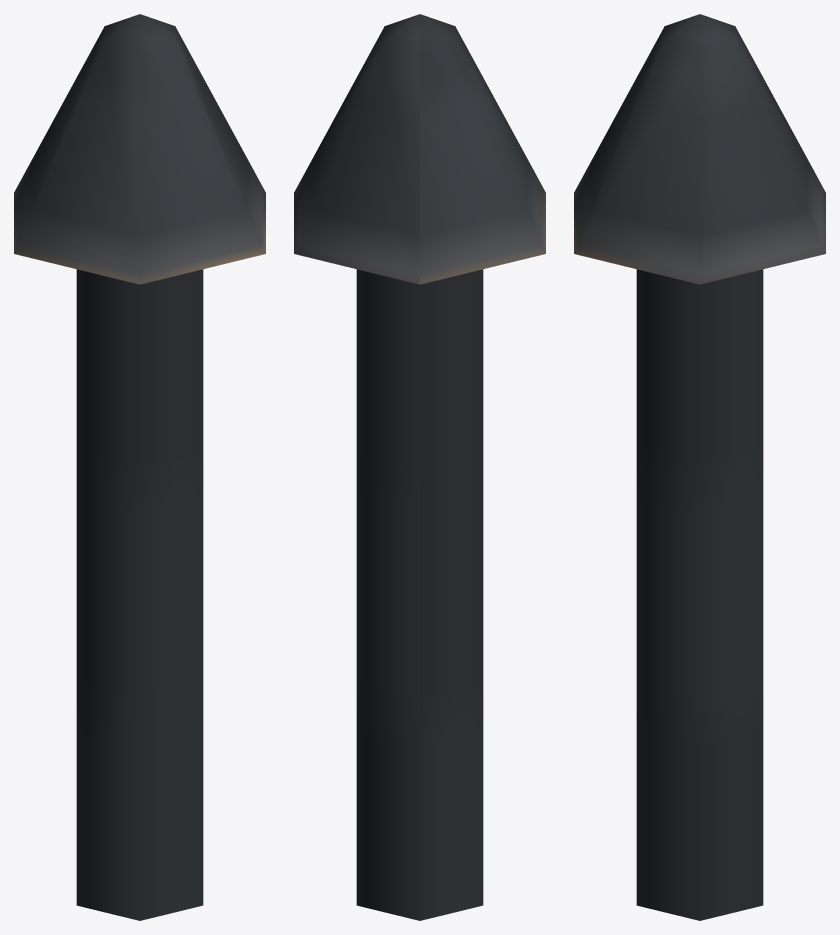
File: chimney_v1.fbx
3 views of the same model, side by side, from view 1: azimuth 30°, elevation 25°; view 2: azimuth 150°, elevation 25°; view 3: azimuth 270°, elevation 25° (orthographic).
Visible parts, largest first — view 1: chimney_v1; view 2: chimney_v1; view 3: chimney_v1.
Part boxes in pixels (bbox=[...]): chimney_v1: bbox=[14, 14, 265, 920]; chimney_v1: bbox=[294, 14, 545, 920]; chimney_v1: bbox=[574, 14, 825, 920].
Bounding box in the file's own units: 53.35 × 177 × 46.2.
